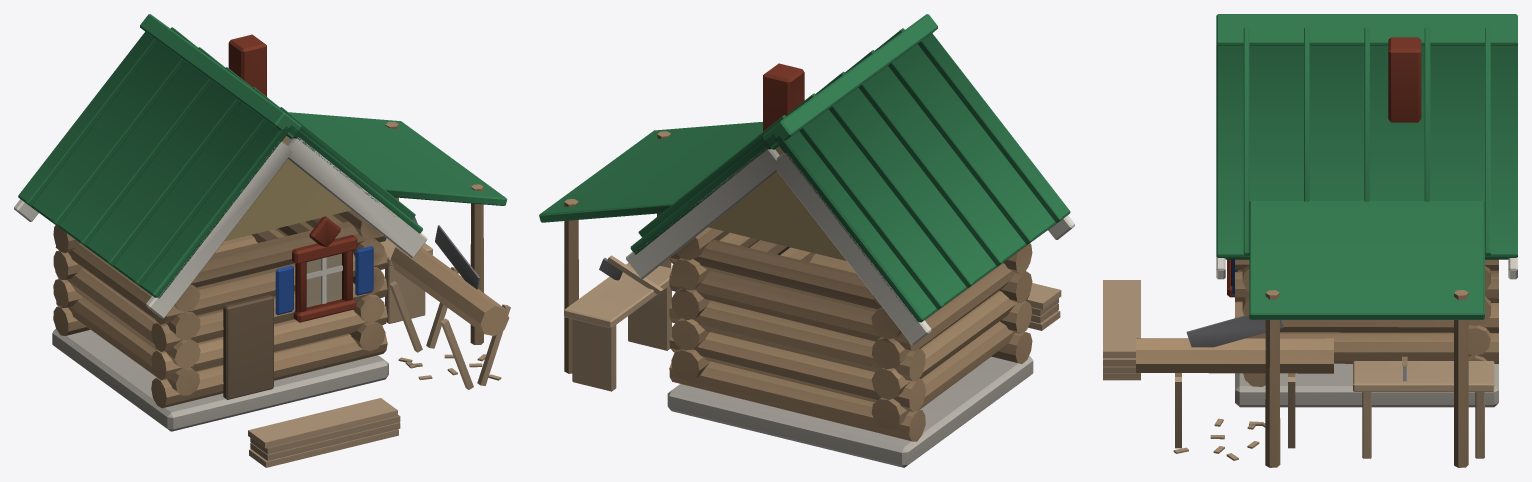
The model's file is bld_izba_plotnika_e2.glb.
3 views of the same model, side by side, from view 1: azimuth 30°, elevation 25°; view 2: azimuth 150°, elevation 25°; view 3: azimuth 270°, elevation 25° (orthographic). The views are drawn at different scales.
Visible parts, largest first — view 1: izba_plotnika; view 2: izba_plotnika; view 3: izba_plotnika.
Part boxes in pixels (x1,y1,x2,y2): izba_plotnika: [14, 14, 510, 467]; izba_plotnika: [539, 14, 1074, 467]; izba_plotnika: [1103, 14, 1517, 467].
Bounding box in the file's own units: 1.01 × 0.7858 × 0.88.
